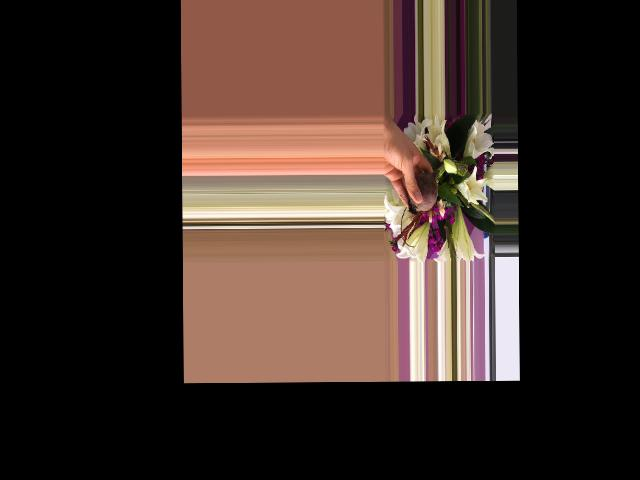beet: (407, 162, 444, 215)
